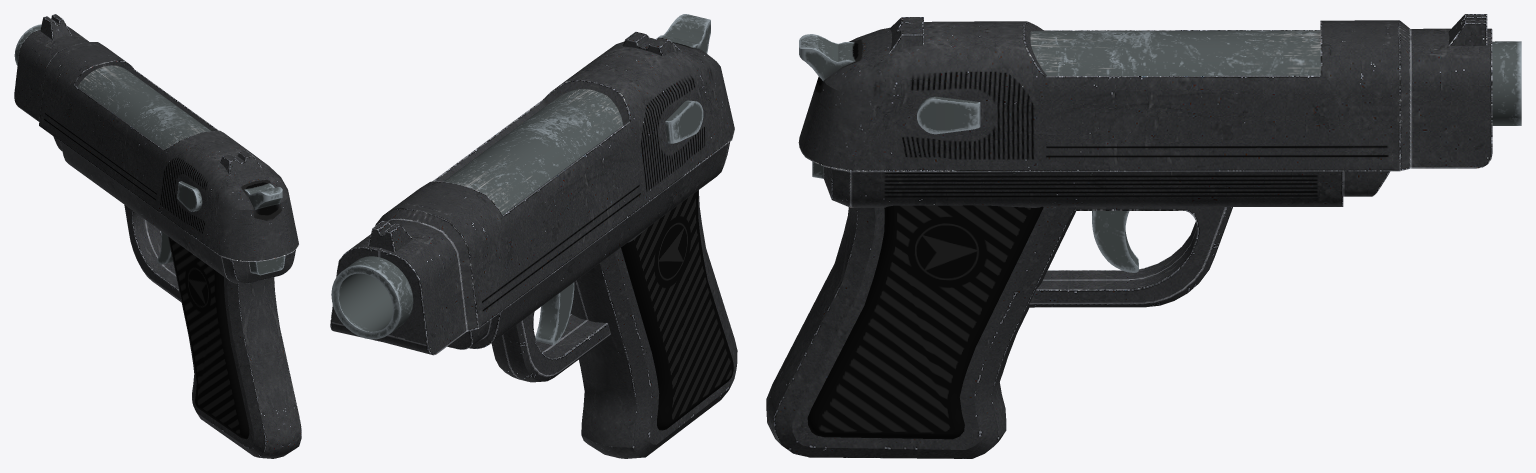
Rendered from gun2.glb.
3 renders of one model, left to right at view 1: azimuth 30°, elevation 25°; view 2: azimuth 150°, elevation 25°; view 3: azimuth 270°, elevation 25°, orthographic. The views are drawn at different scales.
Parts seen in each view (by area): view 1: pistol_and_fist; view 2: pistol_and_fist; view 3: pistol_and_fist.
Boxes of the visible parts, x1,y1,x2,y2 form: pistol_and_fist: (14,14,301,458); pistol_and_fist: (330,14,737,458); pistol_and_fist: (766,14,1521,458).
Size of what is drawn, in the model's own units: 0.0848 by 0.2757 by 0.4381.
1 material, 1 textured.
